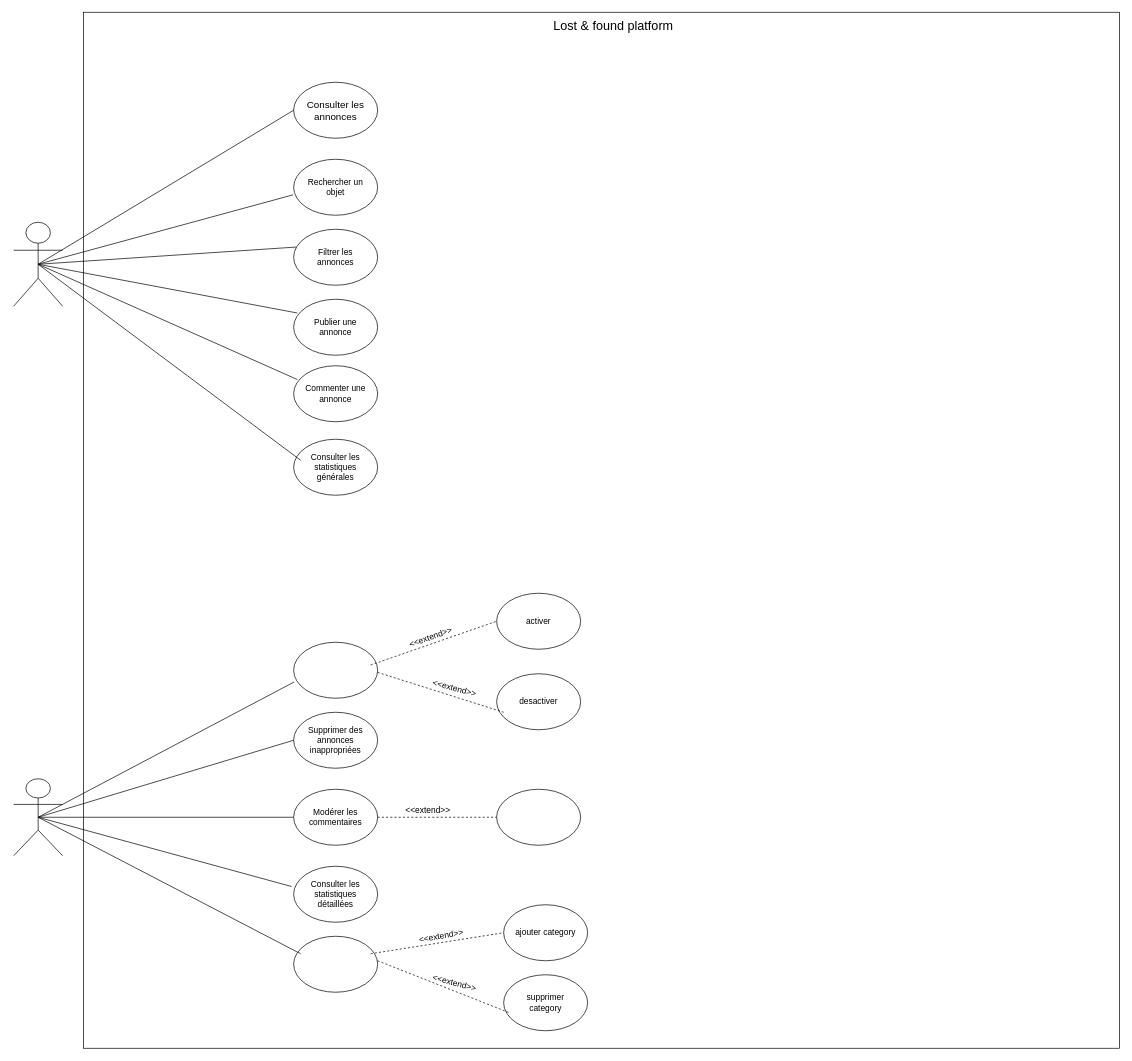
Image size: 1132x1061. Some labels were removed from this diagram. Here are the shapes that lost their labels. From the top down, the centre of each, then its label:
At (38,264): "utilisateur".
At (335,670): "Gérer les utilisateurs".
At (38,817): "administartion".
At (538,817): "supprimer".
At (335,964): "Gérer les catégories d’objets".
